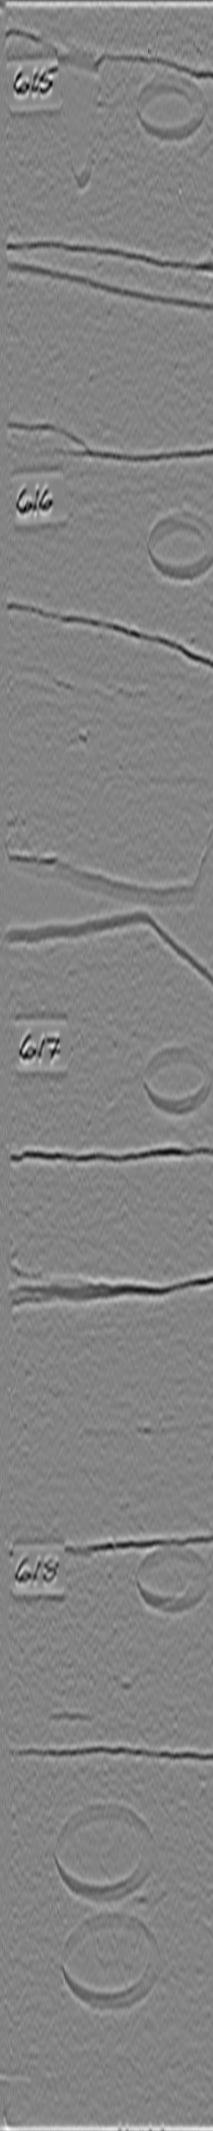hplug: (137, 1040, 213, 1123), (132, 71, 213, 141), (142, 506, 213, 586), (133, 1543, 213, 1612)
scal: (47, 1795, 161, 1903), (56, 1912, 164, 2014)
vplug: (37, 1545, 100, 1723), (43, 42, 103, 190)
